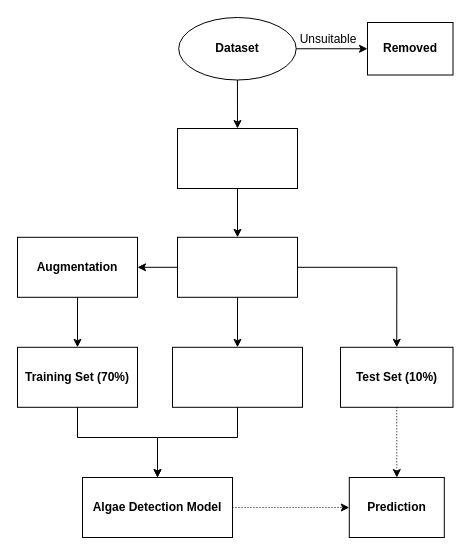
Some shapes in this 471 by 555 pixel diagram are drawn without their labels. The box of each missing label's shape, as (x1, y1, x2, y2) in pixels:
Annotation: (176, 128, 298, 188)
Preprocessing: (176, 236, 298, 297)
Validation Set (20%): (172, 346, 302, 407)
